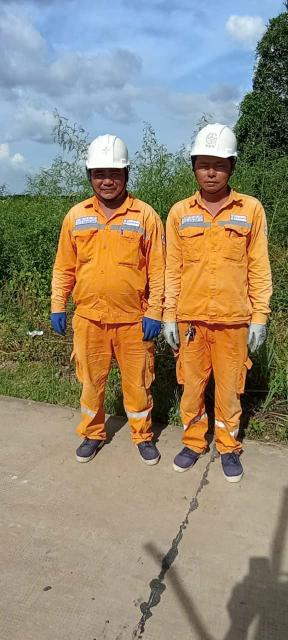gloves: (138, 310, 166, 347), (45, 304, 75, 337), (247, 317, 273, 353), (159, 313, 182, 353)
helmet: (188, 118, 242, 166), (87, 130, 130, 174)
shoes: (217, 440, 251, 487), (66, 430, 114, 463), (169, 432, 202, 473), (130, 432, 164, 470)
